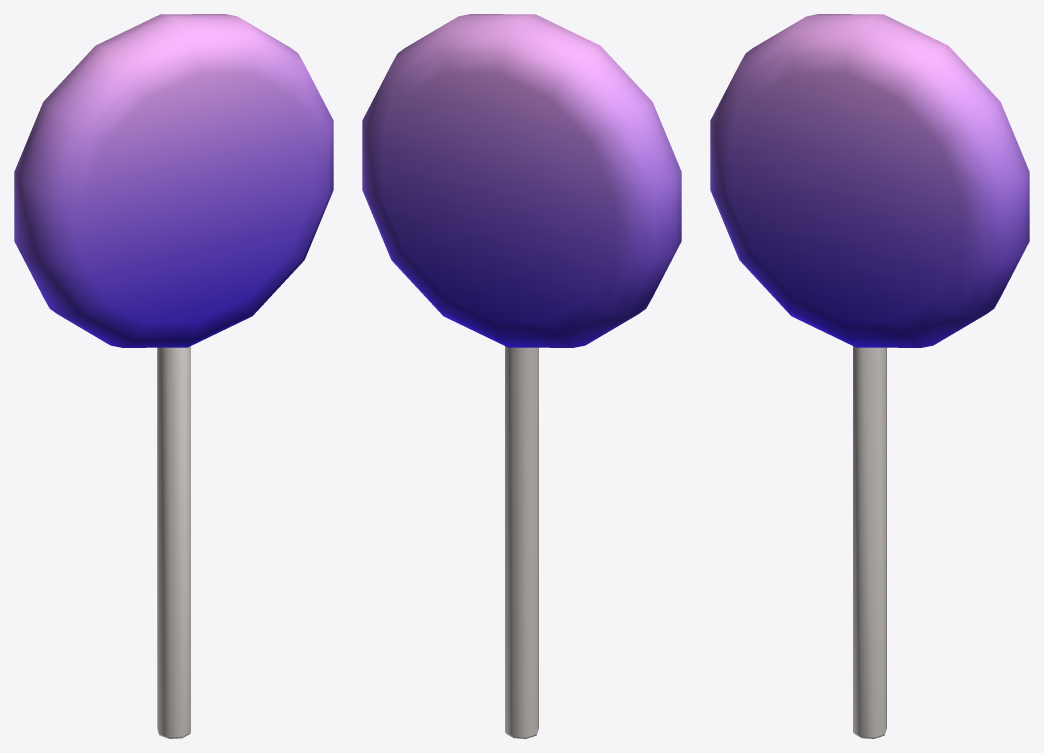
The model's file is candy_glass_12.fbx.
3 renders of one model, left to right at view 1: azimuth 30°, elevation 25°; view 2: azimuth 150°, elevation 25°; view 3: azimuth 330°, elevation 25°, orthographic.
Parts seen in each view (by area): view 1: c_g_12; view 2: c_g_12; view 3: c_g_12.
Part boxes in pixels (x1,y1,x2,y2): c_g_12: (14, 14, 333, 738); c_g_12: (362, 14, 681, 738); c_g_12: (710, 14, 1029, 738).
Size of the model in its own units: 137 by 310 by 37.39.
